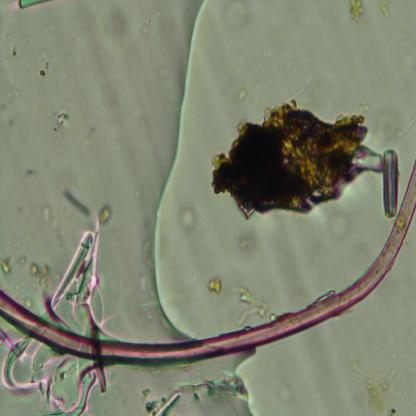Background material: (210, 101, 385, 221), (3, 339, 108, 416), (46, 228, 108, 336), (141, 369, 251, 416), (0, 252, 52, 302), (352, 361, 396, 415), (60, 189, 115, 227), (232, 282, 273, 323), (102, 0, 132, 46), (220, 0, 251, 31), (234, 226, 258, 259), (179, 205, 201, 236), (330, 209, 350, 242), (344, 0, 368, 27), (48, 107, 72, 134), (18, 0, 53, 16), (275, 381, 294, 406), (203, 273, 223, 296), (378, 0, 394, 19), (38, 58, 48, 79), (234, 90, 249, 102)
Diatom: (381, 148, 400, 218)
Glass filter fibre: (284, 70, 314, 106), (400, 112, 416, 140)
Microfibre: (0, 159, 416, 368)
